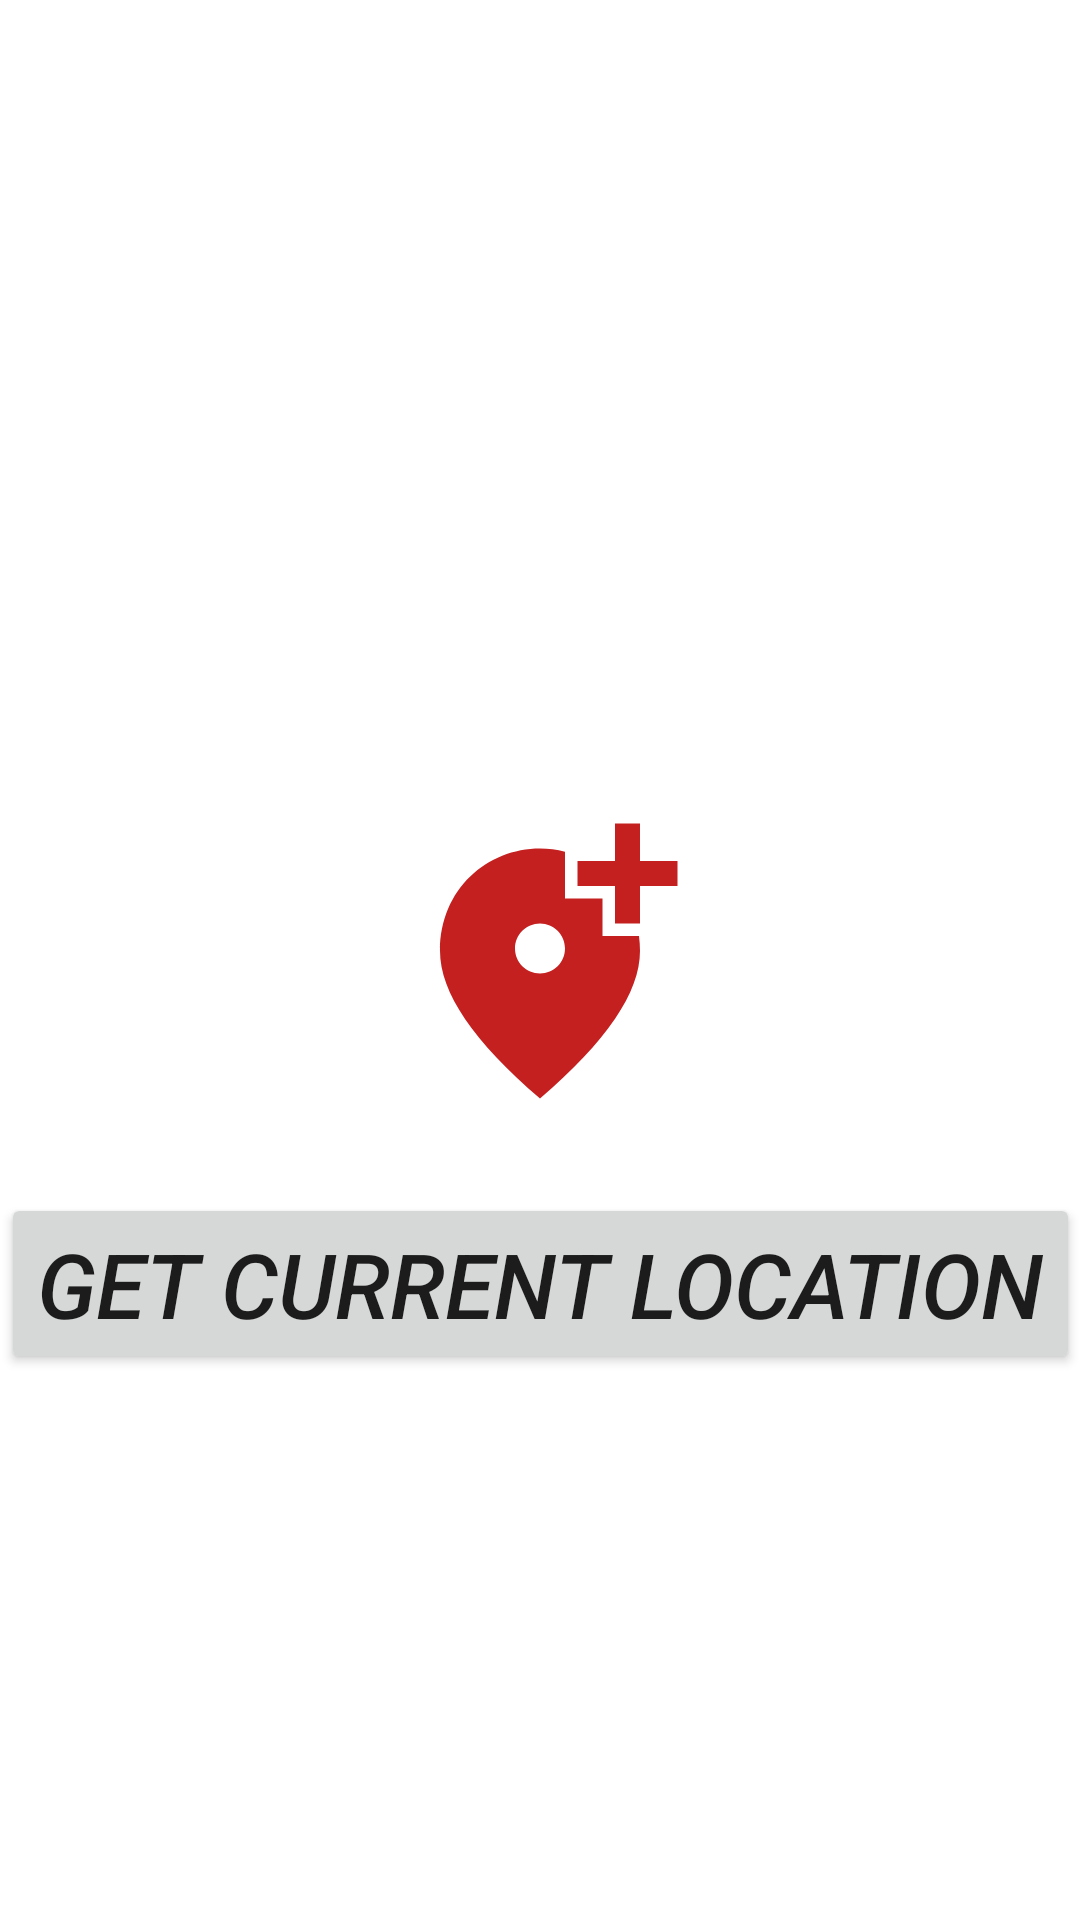

Locate icon controls on the screen. Image size 1080x1920, boxes as (x1, y1, x2, y2).
add location: (440, 823, 678, 1099)
